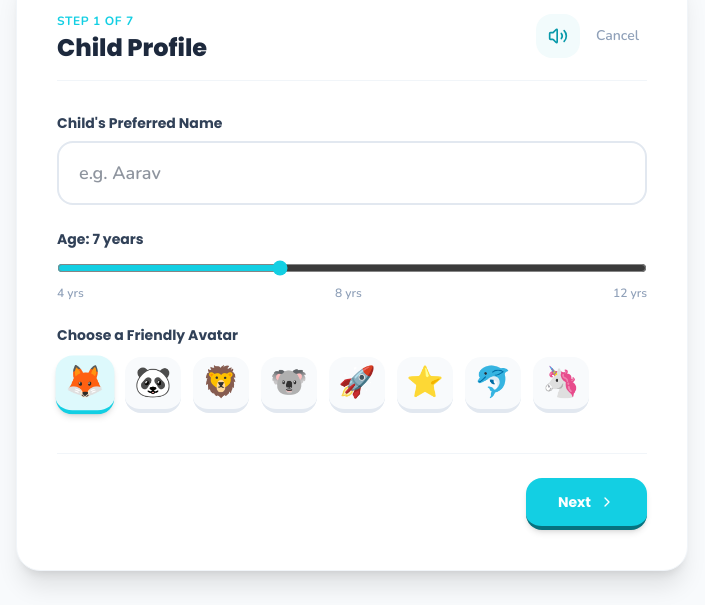
it: Phase 2: Parent/Child Setup Flow UI › 4. Allows navigating backwards using Back button without losing entered state
In the field with placeholder "e.g. Aarav": [352, 173] box [57,141,647,205], type "Ananya"
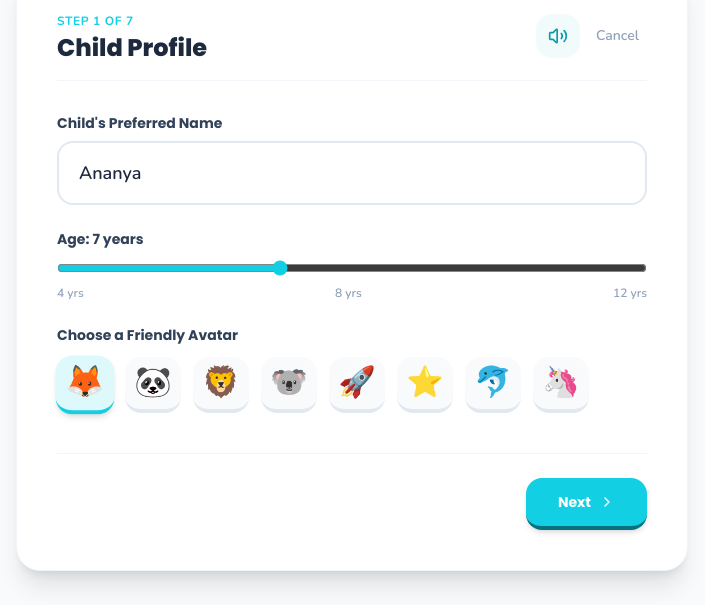
Click the button "Next": [586, 504] box [526,478,647,530]
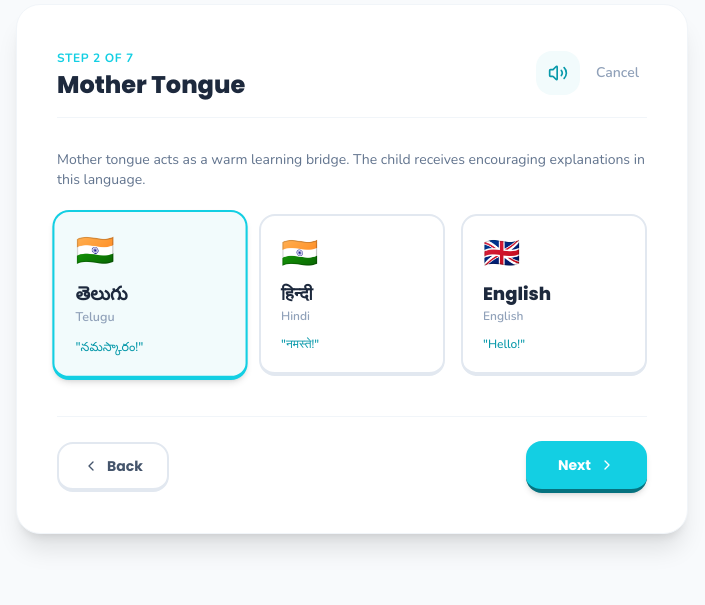
Check: the element with test id "step-mother-tongue" is shown, box [57,150,647,376]
#  Go back
Click the button "Back": [113, 467] box [57,442,169,492]
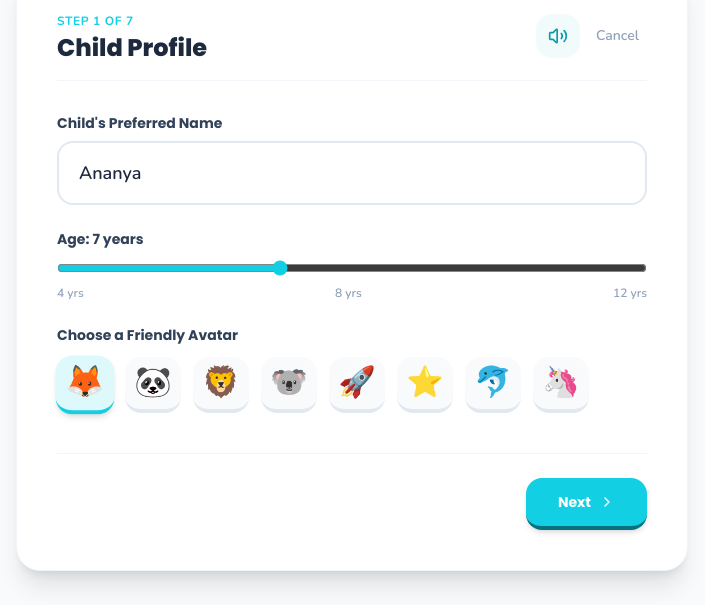
Check: the element with test id "step-basic-profile" is shown, box [57,113,647,413]
Check: the field showing "Ananya" is shown, box [57,141,647,205]
